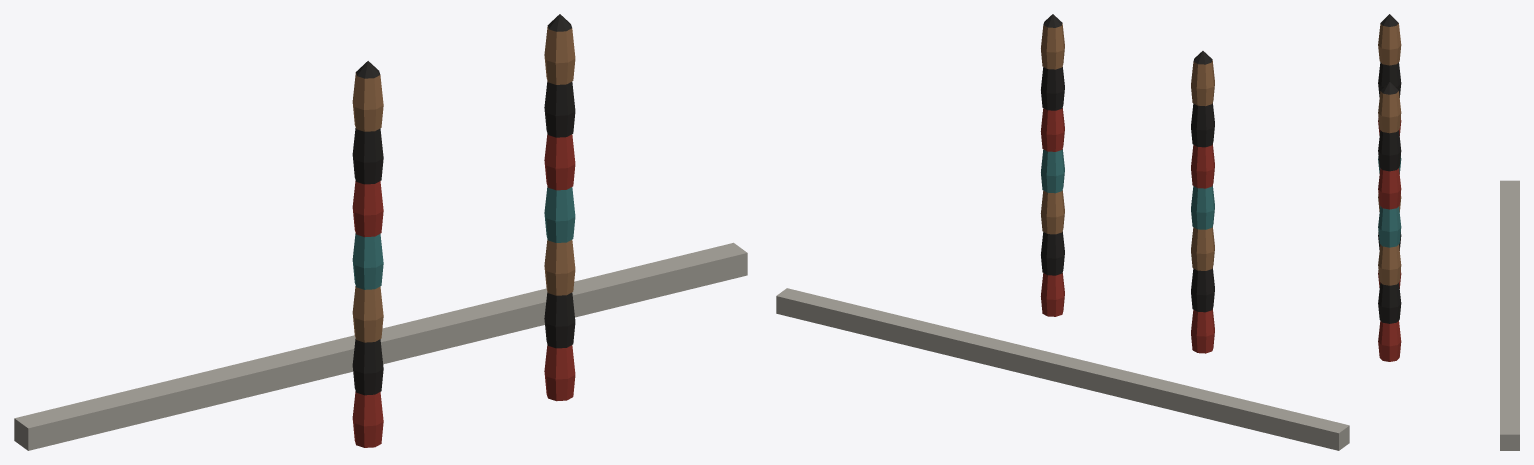
The model's file is victor_steinbrueck_park.glb.
3 views of the same model, side by side, from view 1: azimuth 30°, elevation 25°; view 2: azimuth 150°, elevation 25°; view 3: azimuth 270°, elevation 25° (orthographic). The views are drawn at different scales.
Parts seen in each view (by area): view 1: victor_steinbrueck_park; view 2: victor_steinbrueck_park; view 3: victor_steinbrueck_park.
Boxes of the visible parts, bbox=[...] form: victor_steinbrueck_park: bbox=[14, 14, 747, 450]; victor_steinbrueck_park: bbox=[776, 14, 1349, 450]; victor_steinbrueck_park: bbox=[1378, 14, 1519, 450].
Size of the model in its own units: 30 by 15.2 by 7.08.
1 material, 1 textured.
